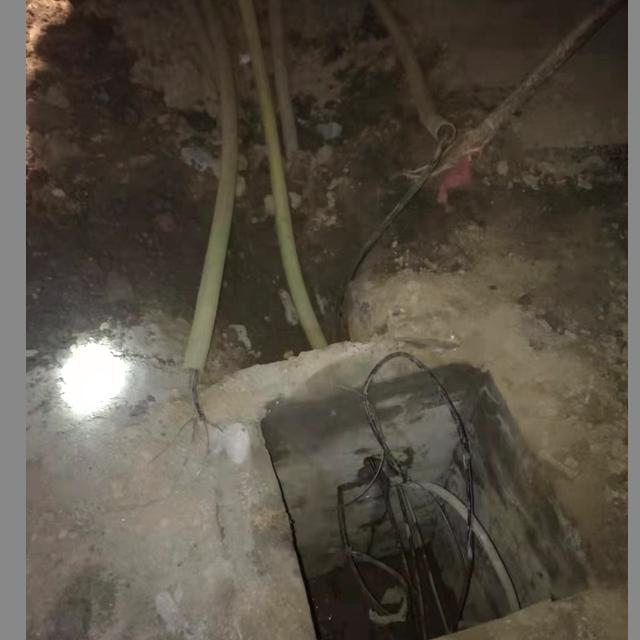lose: (223, 324, 599, 640)
